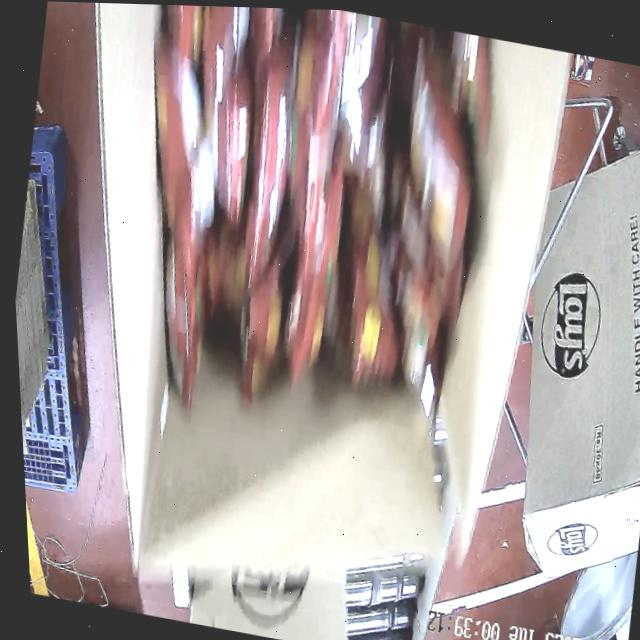MASALA: (89, 3, 517, 466)
